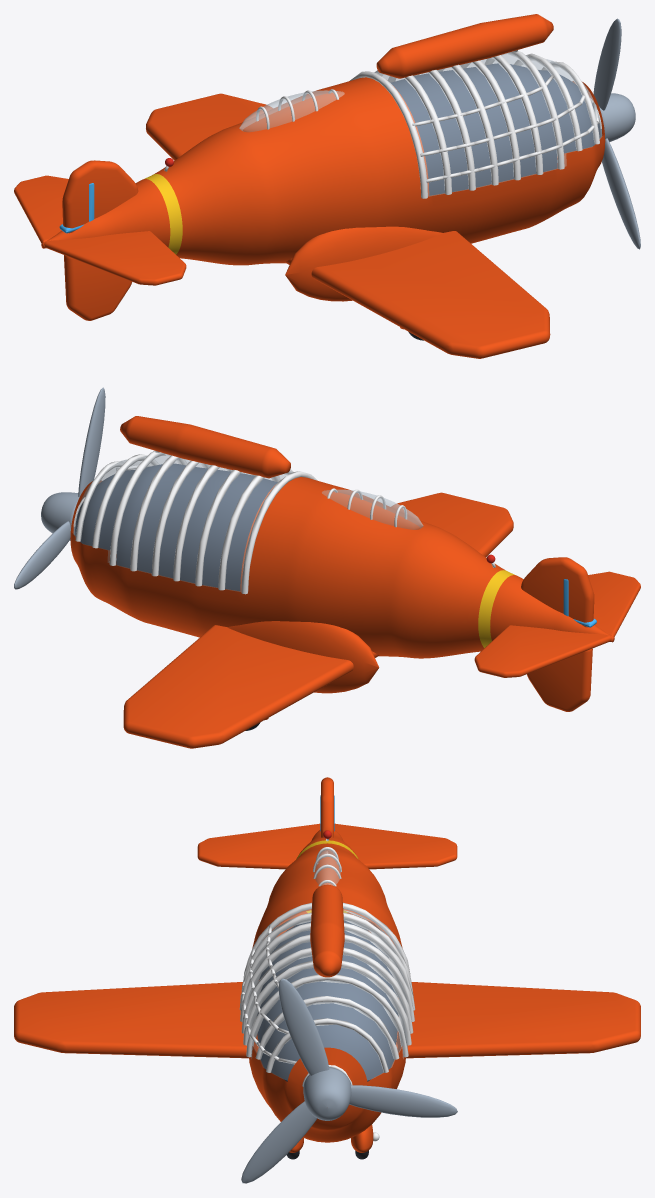
The model's file is tempest.glb.
The picture shows the model from 3 angles, top to bottom: view 1: azimuth 30°, elevation 25°; view 2: azimuth 150°, elevation 25°; view 3: azimuth 270°, elevation 25°; orthographic projection. The views are drawn at different scales.
Visible parts, largest first — view 1: body 2, wing.002, greenhouse, cabin, roof pod 0, fairing, wing, wing.003, fin, body 0, ventral, wing.001 (+14 smaller); view 2: body 2, wing.003, greenhouse, cabin, roof pod 0, fairing.001, wing.001, wing.002, fin, body 0, ventral, wing (+14 smaller); view 3: wing.003, wing.002, greenhouse, body 2, cabin, wing, wing.001, roof pod 0, blade, blade.002, blade.001, spinner (+11 smaller).
Boxes of the visible parts, box(x1,y1,x2,y2) form: body 2: box(155, 77, 605, 265); wing.002: box(285, 231, 550, 358); greenhouse: box(374, 52, 601, 196); cabin: box(391, 63, 600, 195); roof pod 0: box(376, 14, 553, 78); fairing: box(285, 226, 442, 301); wing: box(44, 231, 186, 285); wing.003: box(146, 93, 272, 160); fin: box(62, 160, 138, 233); body 0: box(41, 179, 170, 248); ventral: box(64, 255, 131, 320); wing.001: box(14, 175, 68, 243); body 2: box(70, 477, 504, 658); wing.003: box(123, 625, 379, 748); greenhouse: box(73, 452, 292, 591); cabin: box(75, 463, 277, 591); roof pod 0: box(120, 416, 290, 478); fairing.001: box(227, 621, 379, 693); wing.001: box(474, 625, 611, 677); wing.002: box(391, 492, 513, 556); fin: box(521, 557, 594, 627); body 0: box(490, 575, 614, 642); ventral: box(527, 648, 592, 711); wing: box(588, 571, 640, 636); wing.003: box(396, 982, 640, 1058); wing.002: box(14, 982, 258, 1058); greenhouse: box(246, 908, 408, 1080); body 2: box(249, 843, 405, 1142); cabin: box(257, 920, 398, 1081); wing: box(197, 823, 320, 869); wing.001: box(334, 823, 457, 869); roof pod 0: box(310, 884, 344, 977); blade: box(278, 978, 329, 1075); blade.002: box(349, 1085, 457, 1117); blade.001: box(241, 1101, 316, 1183); spinner: box(303, 1067, 351, 1120).
Bounding box in the file's own units: 5.98 × 2.76 × 5.8.
